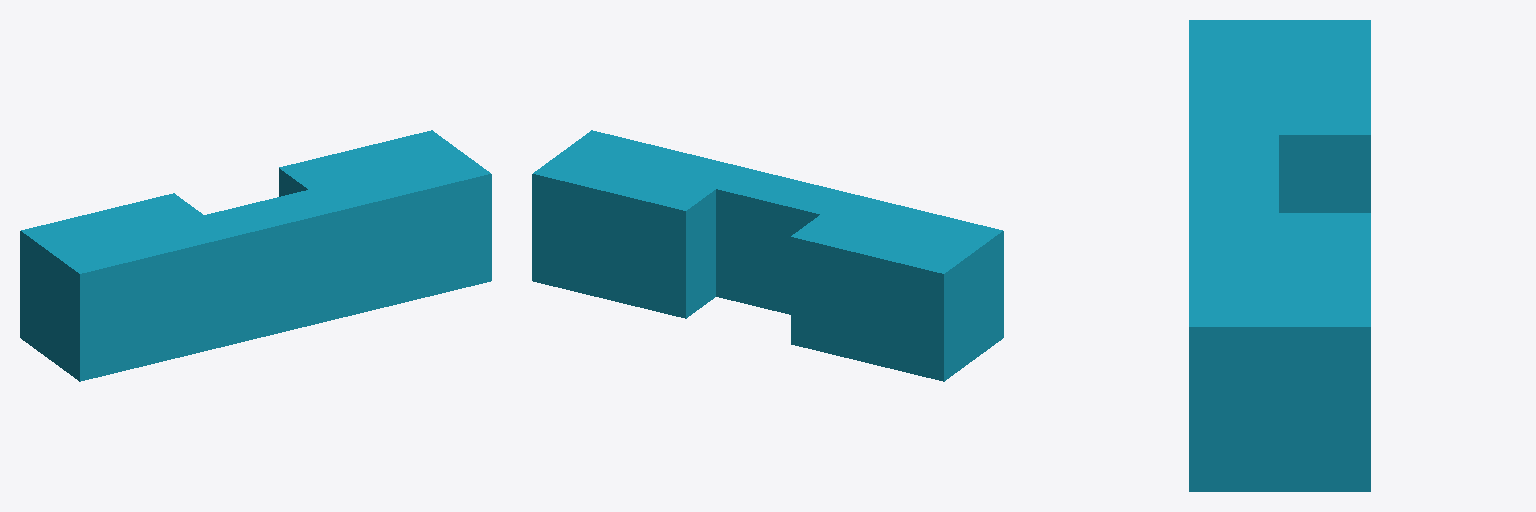
URDF robot description (obj_10):
<robot name="obj_10" version="1.0">
  <link name="obj_10">
    <collision name="interlocking-puzzle-6-1-collision.001">
      <origin rpy="0.00000 0.00000 0.00000" xyz="-0.59086 0.72984 0.31793"/>
      <geometry>
        <mesh filename="../meshes/obj/interlocking-puzzle-6-1-collision.001.obj" scale="2.09740 2.09740 2.09740"/>
      </geometry>
    </collision>
    <collision name="interlocking-puzzle-6-1-collision.002">
      <origin rpy="0.00000 0.00000 0.00000" xyz="-0.40840 0.69445 0.30920"/>
      <geometry>
        <mesh filename="../meshes/obj/interlocking-puzzle-6-1-collision.002.obj" scale="2.09740 2.09740 2.09740"/>
      </geometry>
    </collision>
    <collision name="interlocking-puzzle-6-1-collision.003">
      <origin rpy="0.00000 0.00000 0.00000" xyz="-0.25212 0.72975 0.31079"/>
      <geometry>
        <mesh filename="../meshes/obj/interlocking-puzzle-6-1-collision.003.obj" scale="2.09740 2.09740 2.09740"/>
      </geometry>
    </collision>
    <inertial>
      <inertia ixx="0.00058" ixy="-0.00000" ixz="0.00000" iyy="0.00472" iyz="-0.00000" izz="0.00478"/>
      <origin rpy="0.00000 0.00000 0.00000" xyz="-0.41719 0.72434 0.31793"/>
      <mass value="0.03000"/>
    </inertial>
    <visual name="interlocking-puzzle-6-1">
      <material name="Light Blue"/>
      <origin rpy="0.00000 0.00000 0.00000" xyz="-0.41719 0.74944 0.31793"/>
      <geometry>
        <mesh filename="../meshes/obj/interlocking-puzzle-6.obj" scale="0.01049 0.01049 0.01049"/>
      </geometry>
    </visual>
  </link>
  <material name="Light Blue">
    <color rgba="0.15294 0.68627 0.80000 1.00000"/>
  </material>
</robot>

--- Facts derived from the render (not from the file) ---
Views: 3 orthographic renders of the robot side by side, from view 1: azimuth 30°, elevation 25°; view 2: azimuth 150°, elevation 25°; view 3: azimuth 270°, elevation 25°.
Model obj_10 with 1 links and 0 joints (none), rooted at obj_10, posed every joint at zero.
Links seen in each view (by area): view 1: obj_10; view 2: obj_10; view 3: obj_10.
Link boxes in pixels (x1=…): obj_10: x1=20, y1=130, x2=491, y2=381; obj_10: x1=532, y1=130, x2=1003, y2=381; obj_10: x1=1189, y1=20, x2=1370, y2=491.
Size in the robot's own frame: 0.6294 by 0.1574 by 0.1574 metres.
1 mesh visuals loaded from 1 distinct referenced files (1 OBJ).